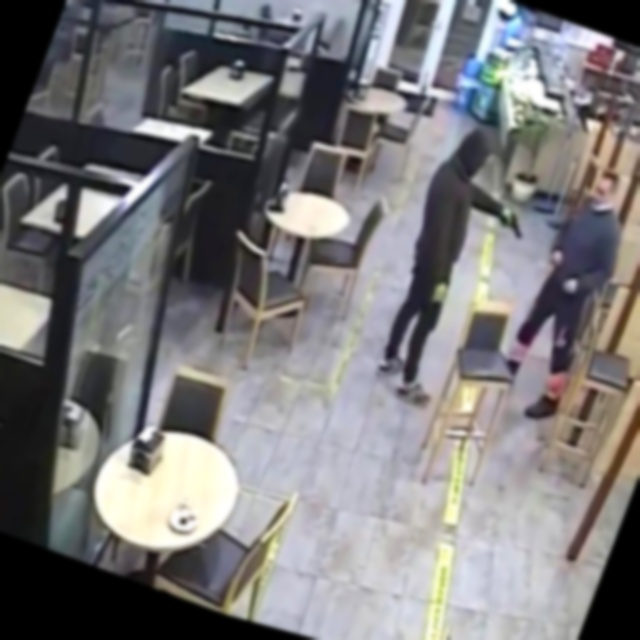gun: (482, 195, 543, 258)
